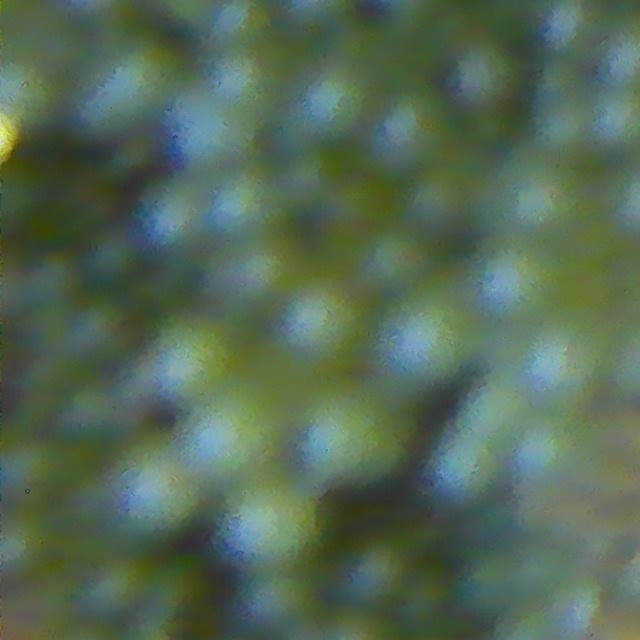SeaGrape: (304, 389, 410, 484), (216, 475, 315, 568), (490, 146, 583, 245), (75, 43, 172, 136), (145, 311, 237, 402), (382, 296, 469, 387), (463, 243, 553, 328), (165, 91, 250, 175), (202, 242, 302, 313), (513, 317, 597, 401), (283, 286, 370, 367), (127, 443, 196, 540), (184, 390, 263, 470), (509, 418, 586, 496), (367, 88, 444, 164), (235, 566, 316, 634), (352, 226, 424, 300), (427, 432, 498, 504), (339, 538, 411, 609), (206, 169, 275, 239), (0, 432, 63, 500), (461, 380, 526, 445), (297, 72, 359, 137), (0, 507, 53, 581), (544, 577, 605, 640), (143, 187, 200, 254), (450, 40, 507, 107), (587, 92, 640, 160), (534, 103, 594, 163), (393, 173, 460, 223), (545, 0, 608, 53), (207, 0, 272, 51), (220, 57, 290, 100)
